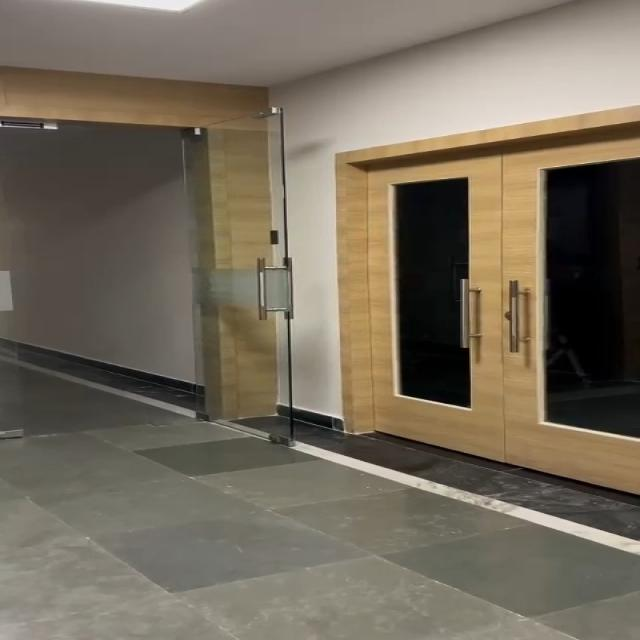door: (3, 54, 294, 430), (328, 142, 640, 458)
floor: (0, 441, 640, 640)
